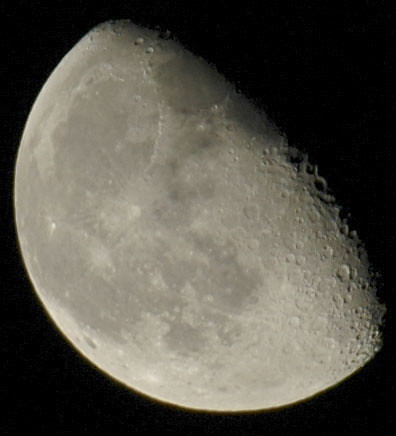crater: (273, 302, 311, 338), (117, 194, 146, 229), (241, 194, 269, 230), (215, 204, 244, 234), (80, 64, 106, 94), (237, 233, 264, 254), (276, 338, 302, 358), (311, 173, 334, 195), (45, 212, 62, 237), (334, 260, 351, 284), (62, 286, 81, 307), (123, 90, 142, 108), (142, 46, 161, 62), (129, 33, 146, 47)
